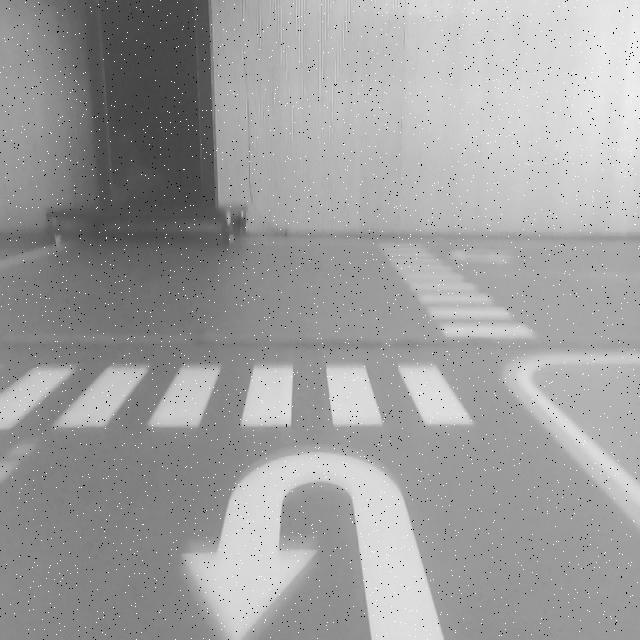left_lane: (0, 440, 32, 488)
right_lane: (503, 370, 640, 531)
